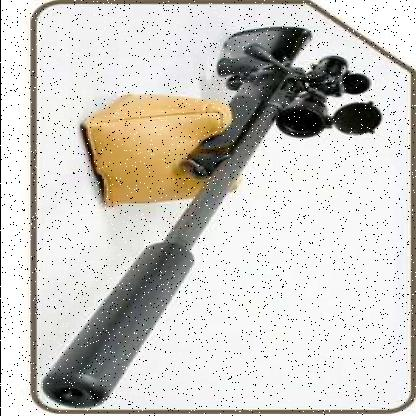rifle: (28, 19, 382, 412)
